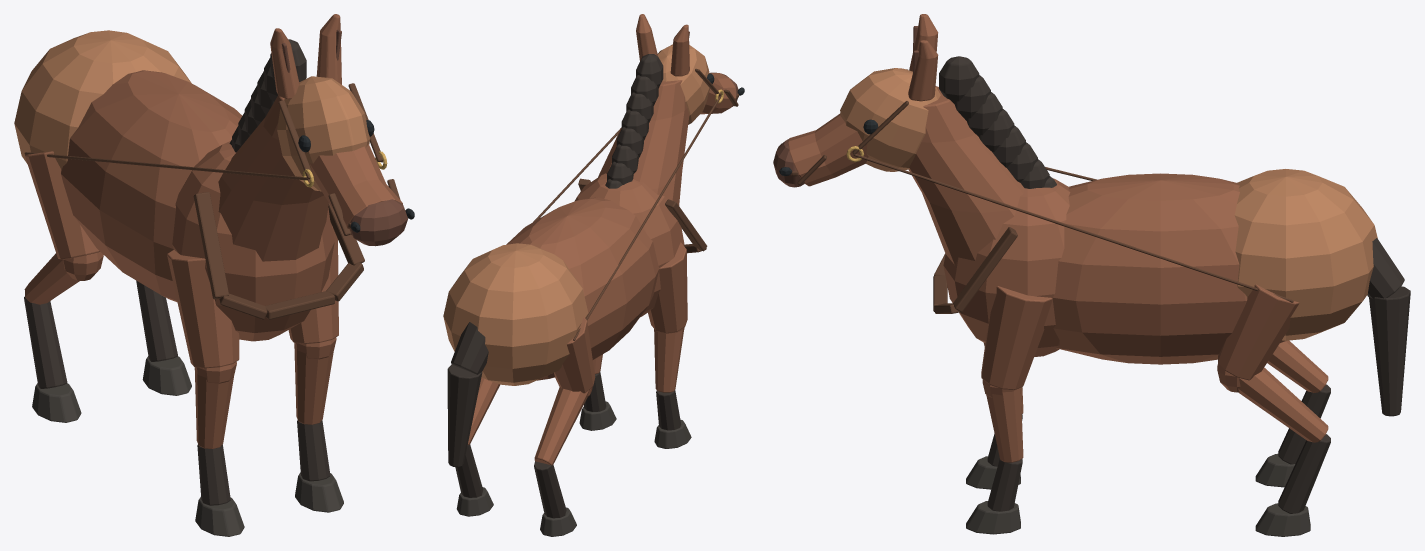
File: horse_bay.glb
The picture shows the model from 3 angles, left to right: view 1: azimuth 30°, elevation 25°; view 2: azimuth 150°, elevation 25°; view 3: azimuth 270°, elevation 25°; orthographic projection. The views are drawn at different scales.
Visible parts, largest first — view 1: horse_bay__structure, horse_bay__finish, horse_bay__attachments; view 2: horse_bay__structure, horse_bay__finish, horse_bay__attachments; view 3: horse_bay__structure, horse_bay__finish, horse_bay__attachments.
Boxes of the visible parts, x1,y1,x2,y2 form: horse_bay__structure: (14, 14, 402, 505); horse_bay__finish: (32, 29, 414, 536); horse_bay__attachments: (24, 83, 405, 319); horse_bay__structure: (443, 14, 736, 518); horse_bay__finish: (447, 31, 744, 536); horse_bay__attachments: (533, 68, 738, 340); horse_bay__structure: (787, 14, 1377, 513); horse_bay__finish: (773, 26, 1410, 536); horse_bay__attachments: (791, 69, 1293, 313).
Bounding box in the file's own units: 0.9386 × 2.69 × 3.26.
